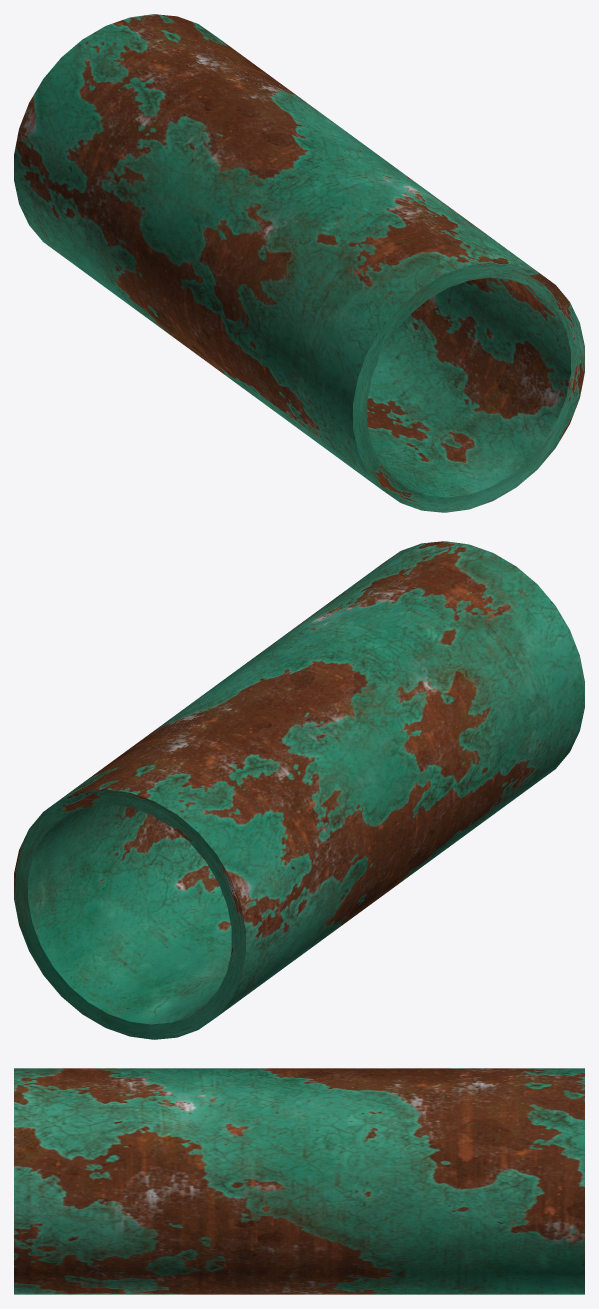
Rendered from CEV10_PRAZNA.fbx.
The picture shows the model from 3 angles, top to bottom: view 1: azimuth 30°, elevation 25°; view 2: azimuth 150°, elevation 25°; view 3: azimuth 270°, elevation 25°; orthographic projection. The views are drawn at different scales.
Visible parts, largest first — view 1: Tube002; view 2: Tube002; view 3: Tube002.
Boxes of the visible parts, x1,y1,x2,y2 form: Tube002: (14, 14, 584, 512); Tube002: (14, 541, 584, 1039); Tube002: (14, 1068, 584, 1294).
Size of the model in its own units: 155 by 156 by 394.
